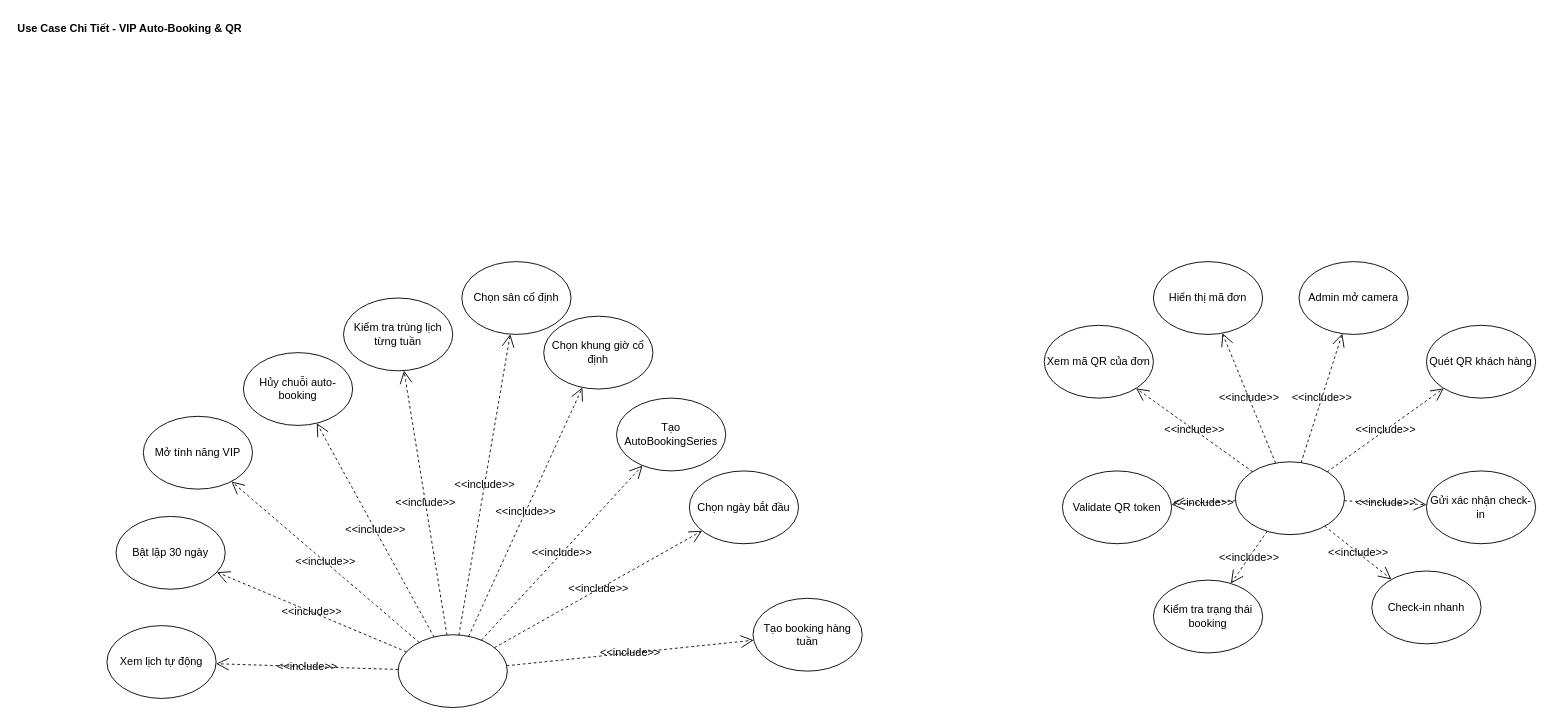
Image size: 1552x723. Some labels were removed from this diagram. The shapes that lost their labels are listed below. From the top down, each one's box as (x1, y1, x2, y2) in pixels, then its label:
(1234, 461, 1345, 535): QR Code Check-in
(397, 634, 507, 708): VIP Auto-Booking
